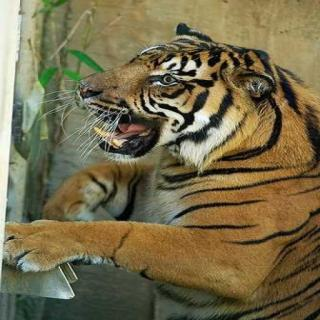Tiger: (3, 19, 320, 319)
